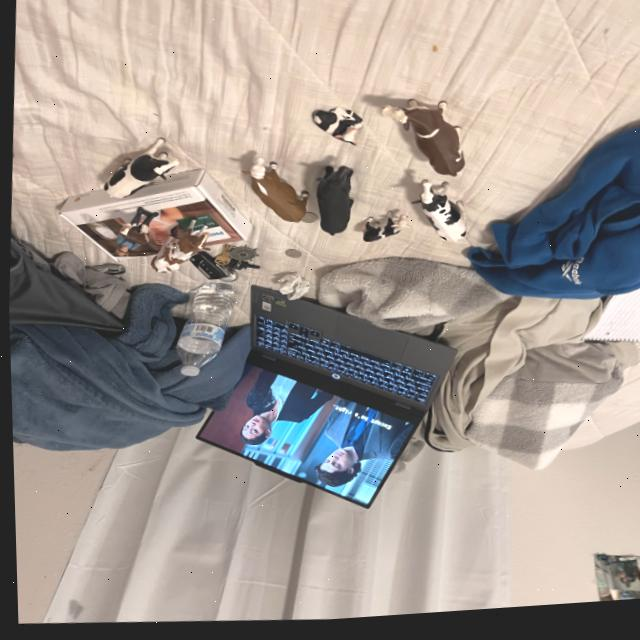cow: (375, 80, 487, 191), (93, 139, 181, 213), (405, 178, 474, 261), (238, 157, 311, 233), (142, 219, 213, 289), (301, 92, 366, 155), (314, 169, 351, 239), (352, 209, 406, 254)
person: (113, 233, 138, 258)
